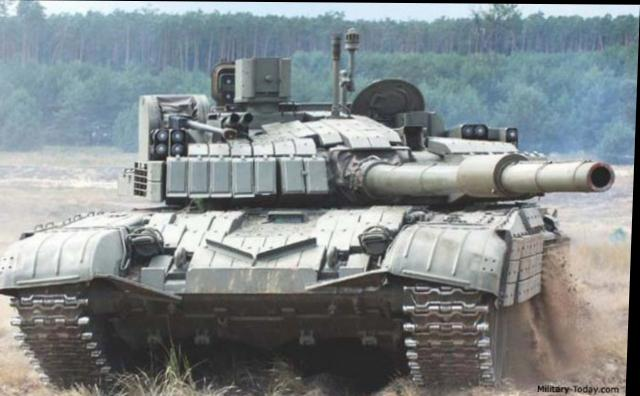tank: (1, 64, 574, 385)
